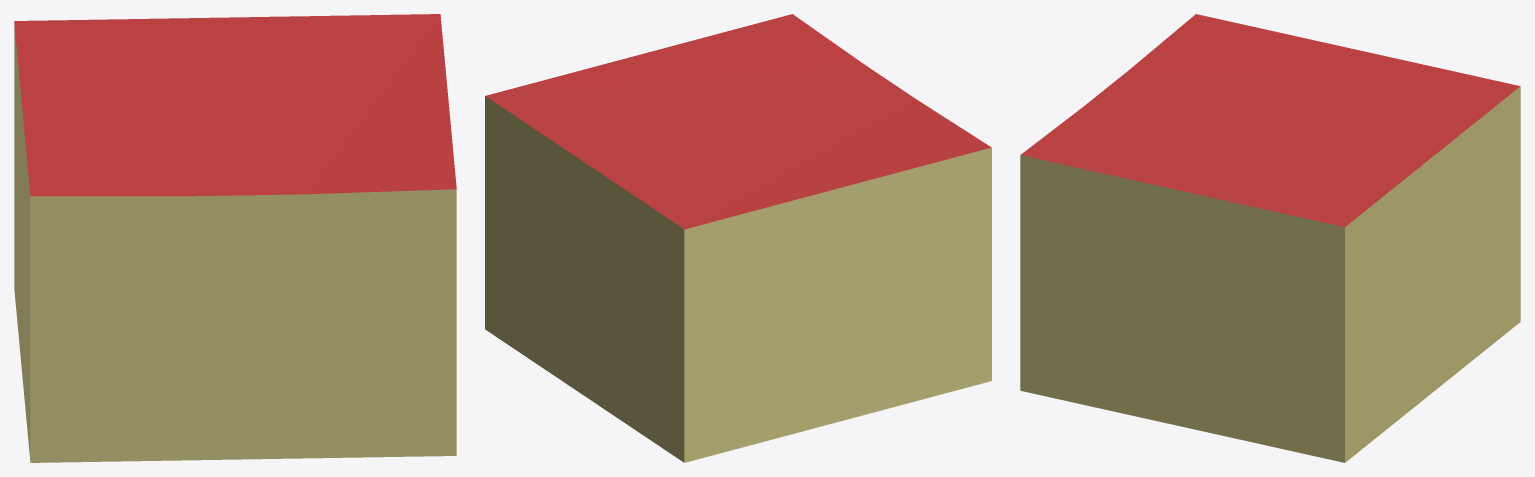
3 views of the same model, side by side, from view 1: azimuth 30°, elevation 25°; view 2: azimuth 150°, elevation 25°; view 3: azimuth 270°, elevation 25° (orthographic). The views are drawn at different scales.
Visible parts, largest first — view 1: group_4, group_3; view 2: group_4, group_3; view 3: group_4, group_3.
Boxes of the visible parts, x1,y1,x2,y2 form: group_4: (14,24,456,462); group_3: (14,14,456,196); group_4: (485,96,991,462); group_3: (485,14,991,229); group_4: (1020,86,1520,462); group_3: (1021,14,1520,226).
Bounding box in the file's own units: 16.6 × 16.46 × 8.56.
